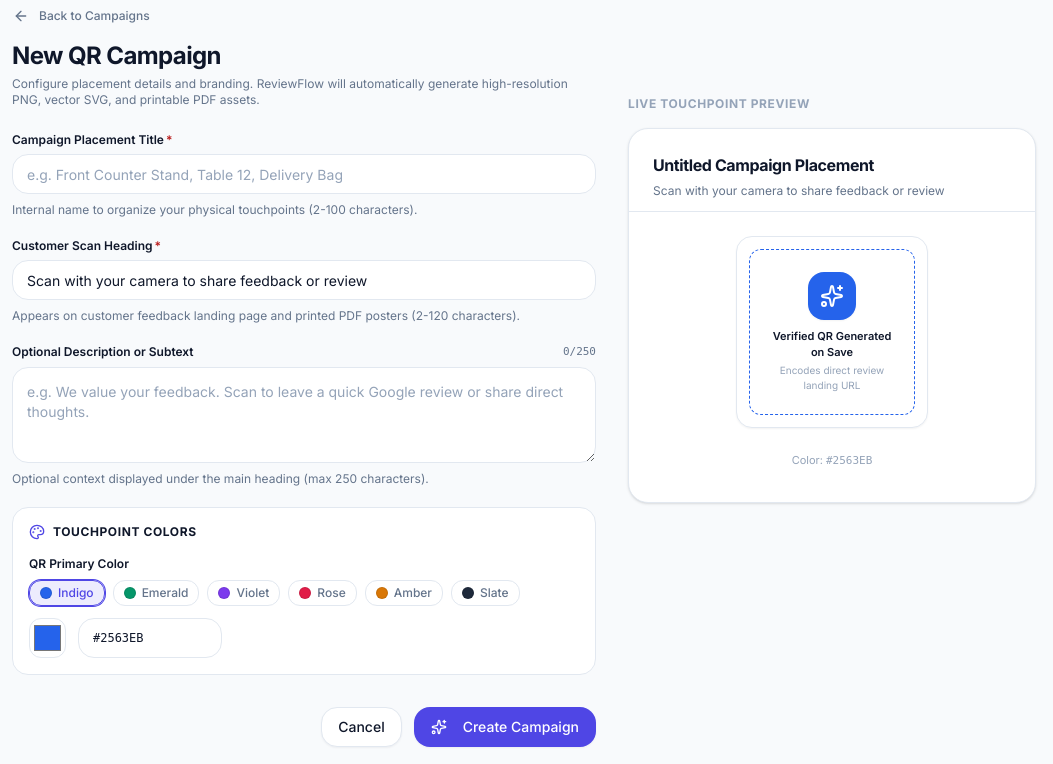
it: CampaignForm Component › should validate required fields and prevent invalid submission
The width and height of the screenshot is (1053, 764).
Clear the field labelled "Customer Scan Heading*" at (304, 280), box [12,260,596,300]
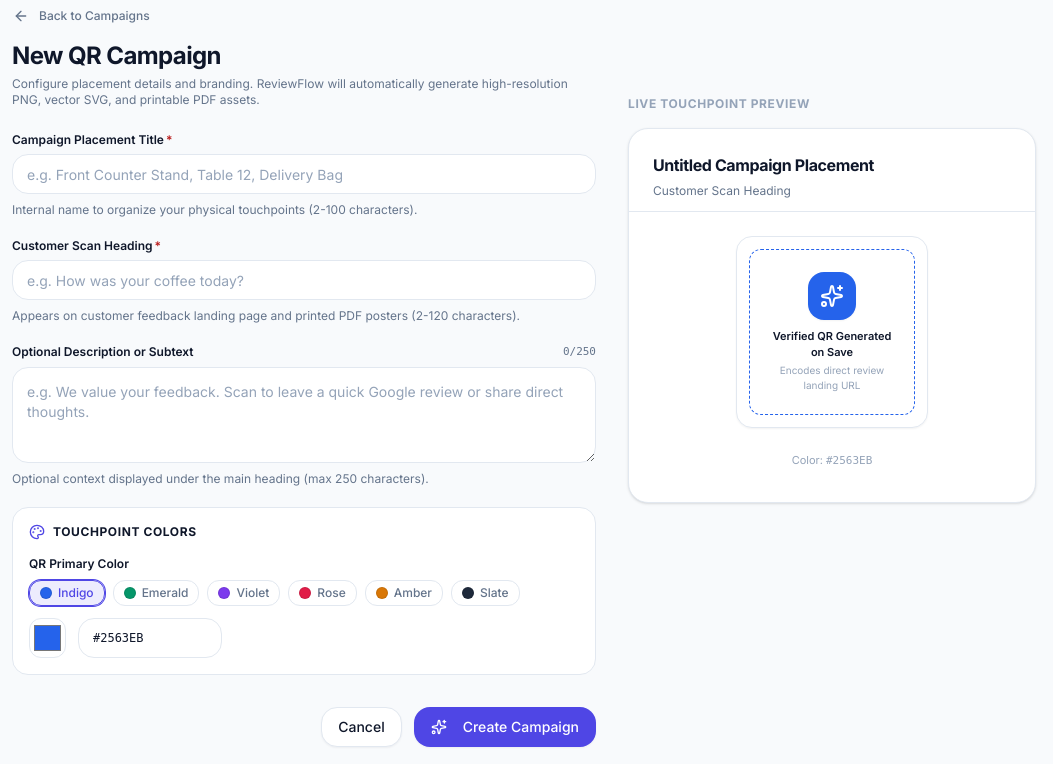
Click the button "Create Campaign" at (505, 726), box [414,706,596,746]
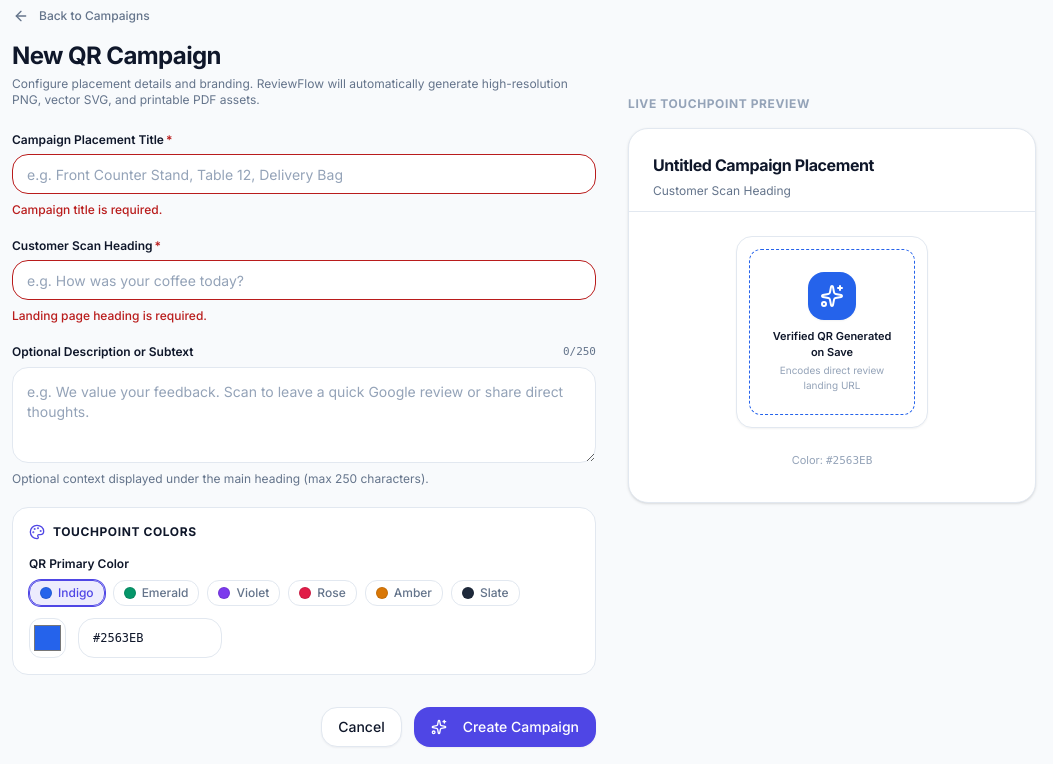
Result: the text "Campaign title is required." is shown at [12,202,162,217]
Result: the text "Landing page heading is required." is shown at [12,308,207,323]
